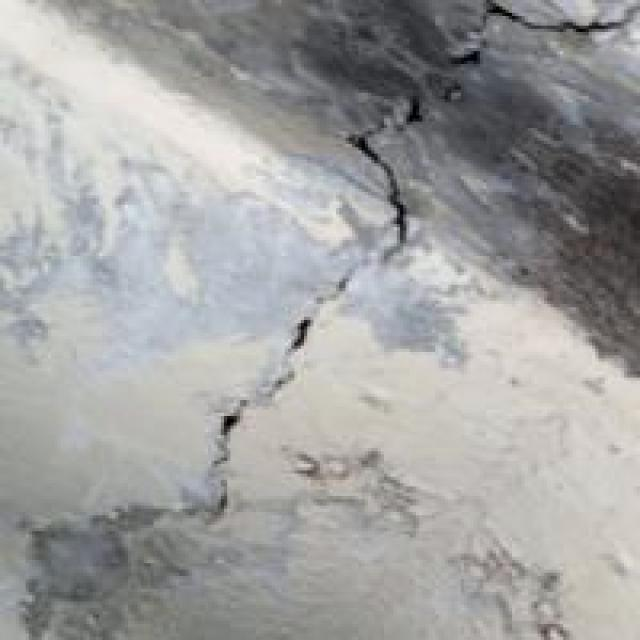crack: (162, 0, 640, 536)
